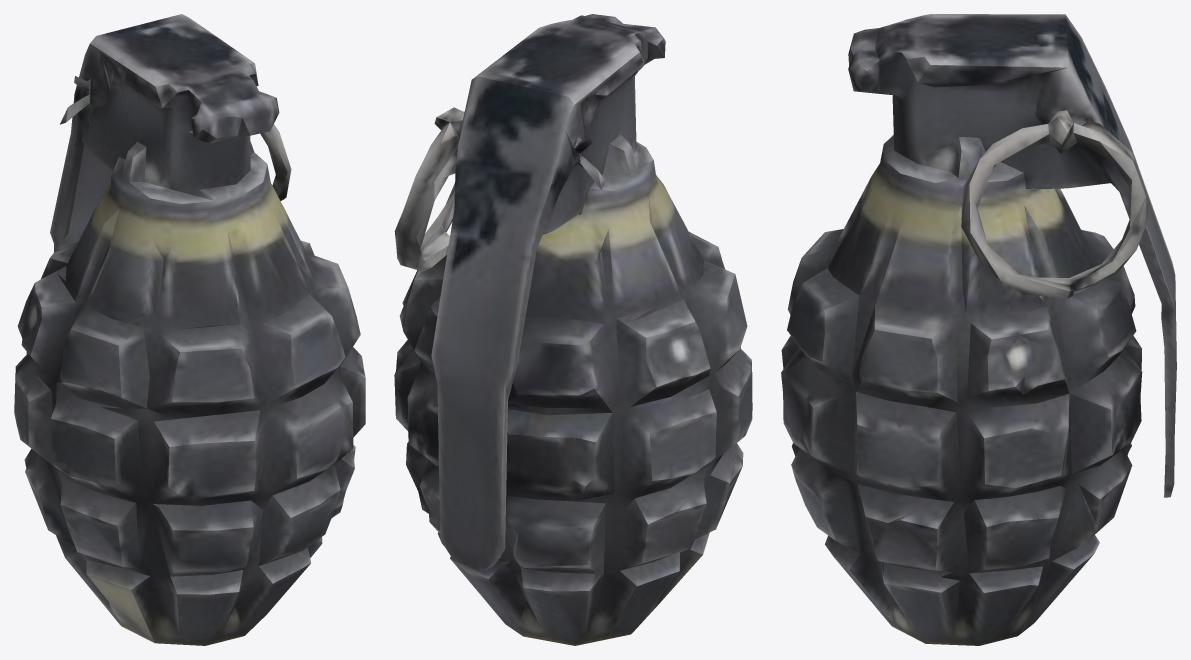
3 views of the same model, side by side, from view 1: azimuth 30°, elevation 25°; view 2: azimuth 150°, elevation 25°; view 3: azimuth 270°, elevation 25° (orthographic). The views are drawn at different scales.
Visible parts, largest first — view 1: body; view 2: body; view 3: body.
Boxes of the visible parts, x1,y1,x2,y2 form: body: (14, 14, 365, 645); body: (394, 14, 752, 645); body: (781, 14, 1176, 645).
Bounding box in the file's own units: 0.1128 × 0.1993 × 0.1233.
1 material, 1 textured.
